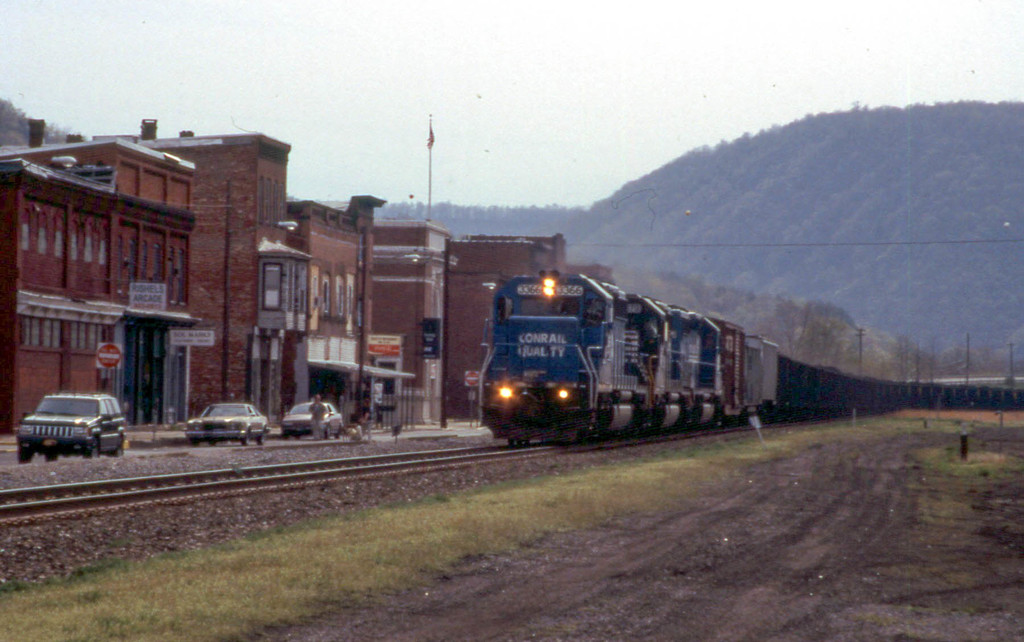Car: (14, 385, 122, 457), (187, 400, 270, 443), (280, 403, 344, 435)
